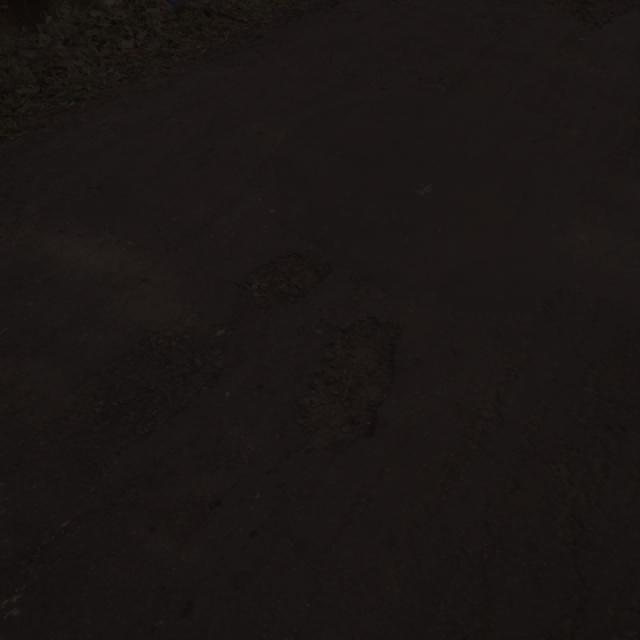Pothole: (289, 314, 423, 456), (247, 246, 344, 310)
